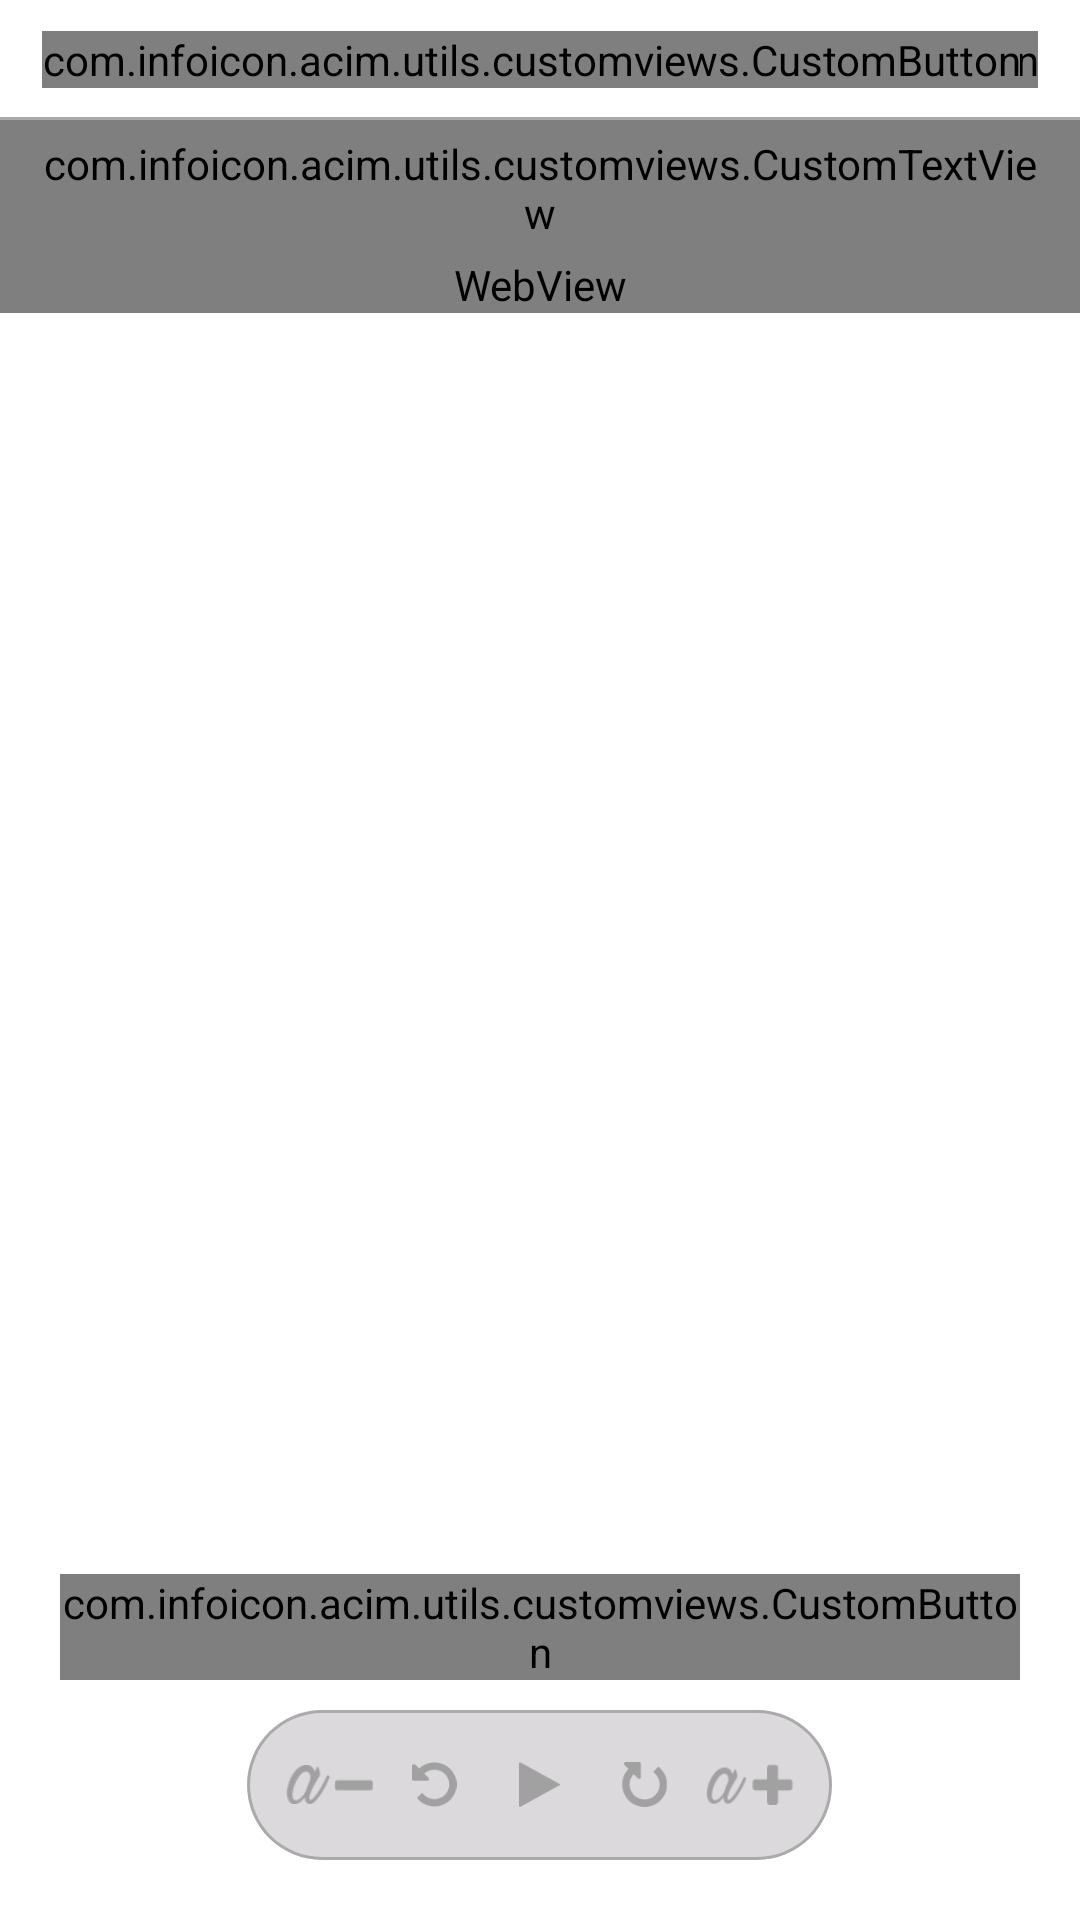

Screen size 1080w x 1920h. Icon name, then its box in pixels as bbox=(x1, y1, x2, y2):
backward: bbox=(412, 1762, 457, 1806)
decrease: bbox=(287, 1765, 373, 1804)
forward: bbox=(622, 1762, 667, 1807)
increase: bbox=(707, 1765, 793, 1805)
play: bbox=(519, 1762, 560, 1807)
